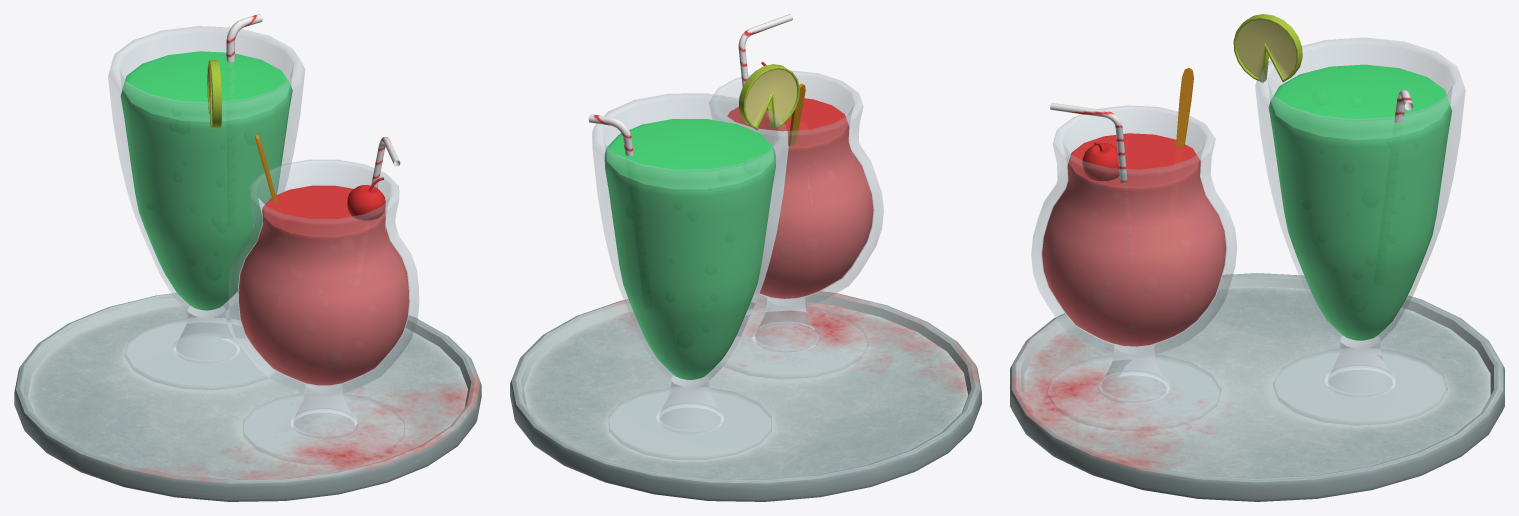
File: 3december_-_fizz_drinks.glb
3 views of the same model, side by side, from view 1: azimuth 30°, elevation 25°; view 2: azimuth 150°, elevation 25°; view 3: azimuth 270°, elevation 25° (orthographic). The views are drawn at different scales.
Parts seen in each view (by area): view 1: pCylinder1, polySurface17, polySurface13, polySurface11, polySurface18, polySurface16, polySurface10, polySurface19, polySurface14, polySurface12, polySurface15; view 2: pCylinder1, polySurface13, polySurface11, polySurface17, polySurface18, polySurface10, polySurface16, polySurface14, polySurface15, polySurface12; view 3: pCylinder1, polySurface13, polySurface11, polySurface17, polySurface18, polySurface10, polySurface16, polySurface14, polySurface19, polySurface15, polySurface20.
Boxes of the visible parts, x1=… form: pCylinder1: x1=14, y1=293, x2=481, y2=501; polySurface17: x1=229, y1=160, x2=418, y2=395; polySurface13: x1=108, y1=26, x2=304, y2=317; polySurface11: x1=120, y1=51, x2=292, y2=310; polySurface18: x1=238, y1=185, x2=409, y2=385; polySurface16: x1=243, y1=384, x2=404, y2=463; polySurface10: x1=125, y1=306, x2=275, y2=389; polySurface19: x1=347, y1=177, x2=385, y2=220; polySurface14: x1=207, y1=60, x2=222, y2=128; polySurface12: x1=226, y1=14, x2=262, y2=62; polySurface15: x1=371, y1=137, x2=400, y2=188; pCylinder1: x1=510, y1=291, x2=981, y2=501; polySurface13: x1=592, y1=93, x2=788, y2=386; polySurface11: x1=604, y1=119, x2=775, y2=379; polySurface17: x1=709, y1=70, x2=883, y2=309; polySurface18: x1=727, y1=98, x2=873, y2=298; polySurface10: x1=609, y1=375, x2=771, y2=459; polySurface16: x1=719, y1=297, x2=868, y2=378; polySurface14: x1=738, y1=64, x2=799, y2=130; polySurface15: x1=738, y1=14, x2=792, y2=86; polySurface12: x1=588, y1=114, x2=633, y2=155; pCylinder1: x1=1010, y1=273, x2=1504, y2=501; polySurface13: x1=1255, y1=38, x2=1465, y2=348; polySurface11: x1=1268, y1=64, x2=1451, y2=340; polySurface17: x1=1031, y1=105, x2=1236, y2=357; polySurface18: x1=1042, y1=133, x2=1226, y2=346; polySurface10: x1=1273, y1=336, x2=1447, y2=425; polySurface16: x1=1047, y1=345, x2=1221, y2=430; polySurface14: x1=1233, y1=14, x2=1302, y2=82; polySurface19: x1=1082, y1=142, x2=1119, y2=180; polySurface15: x1=1050, y1=103, x2=1127, y2=183; polySurface20: x1=1176, y1=67, x2=1193, y2=146.
Size of the model in its own units: 40 by 32.57 by 39.71.
Materials: 1 (1 with a texture image).
